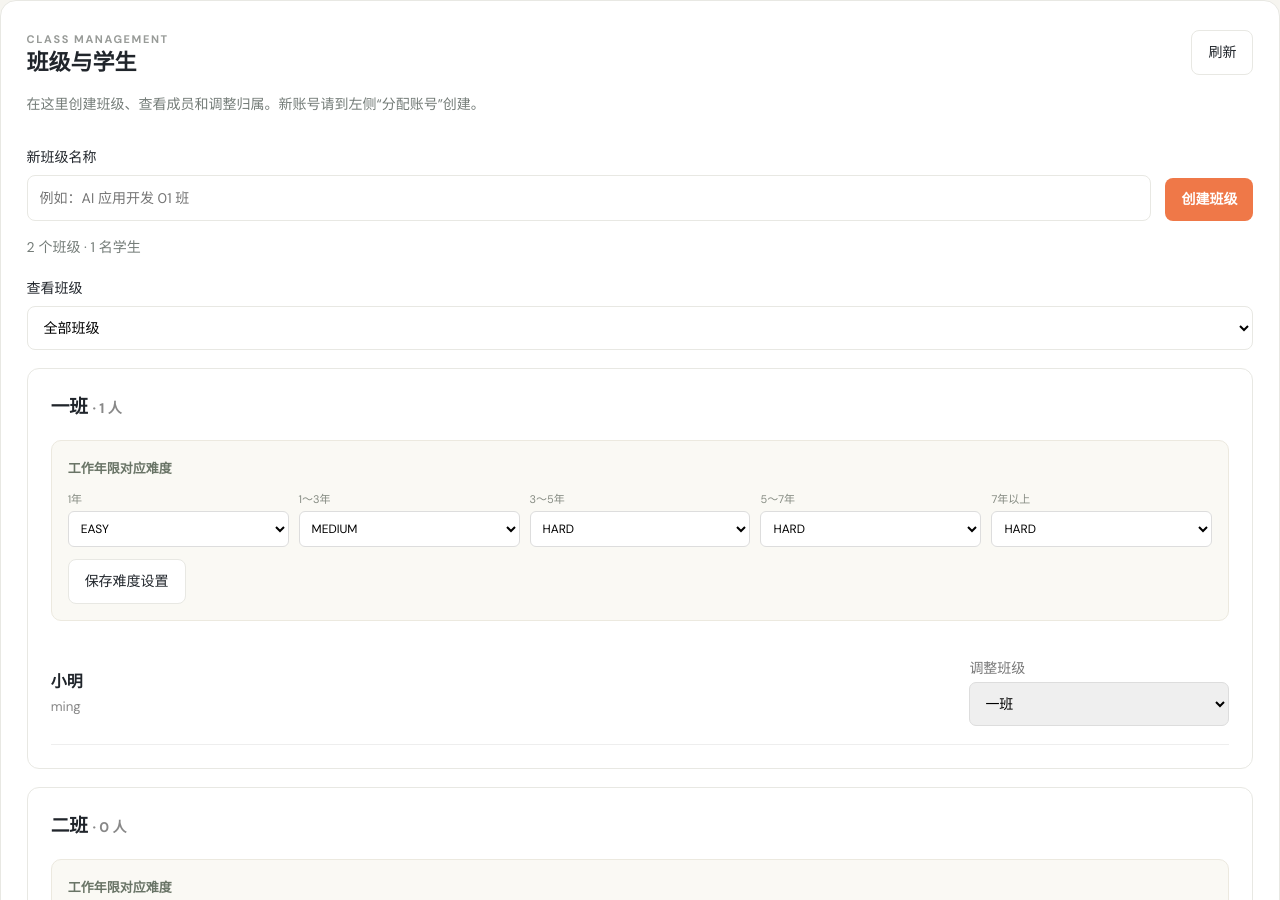
Scenario: lists existing and empty classes and sends a student transfer
Select "二班" in the dropdown named "小明的班级" at (1099,704), box [969, 682, 1229, 726]
(page scrolled)
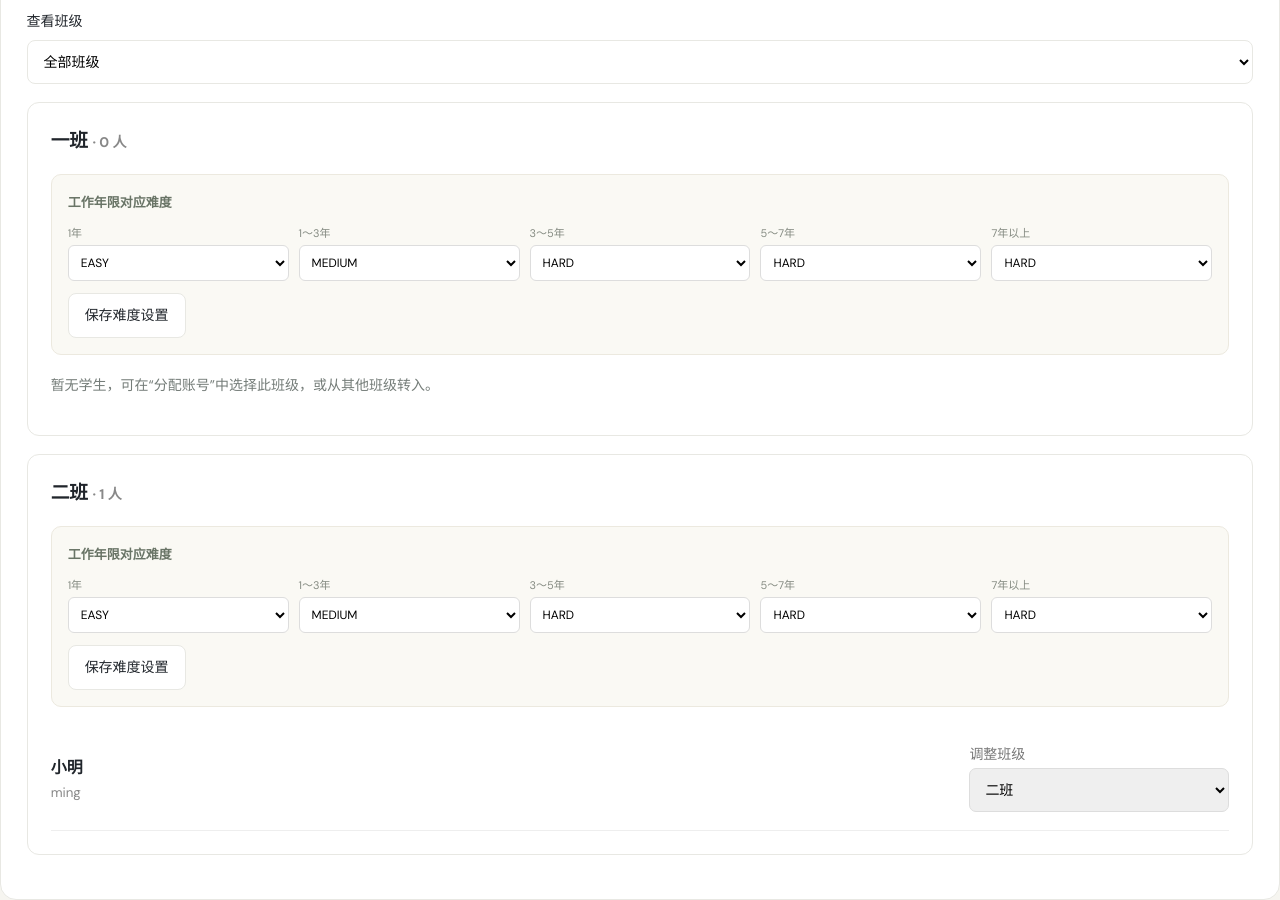
Expected: the element with class "library-item" shows "小明", [51, 757, 83, 778]
